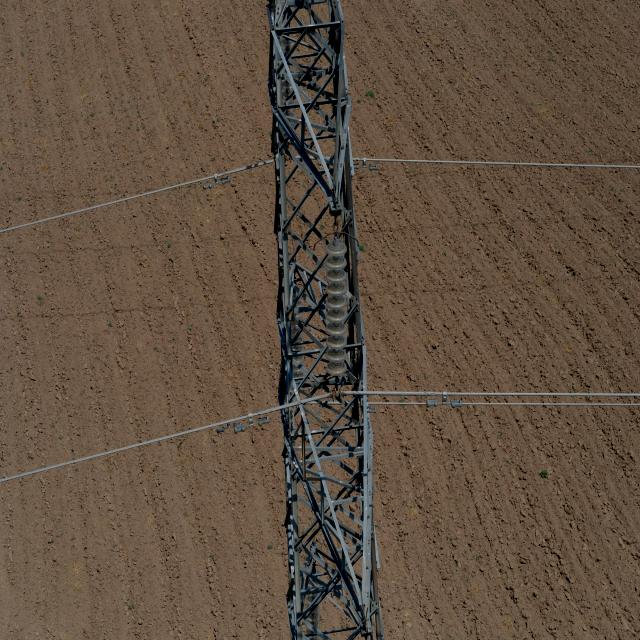voltage_line: (259, 12, 385, 640)
